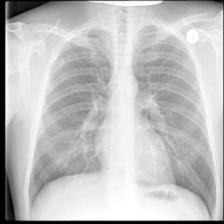tuberculosis: (24, 19, 220, 220)
